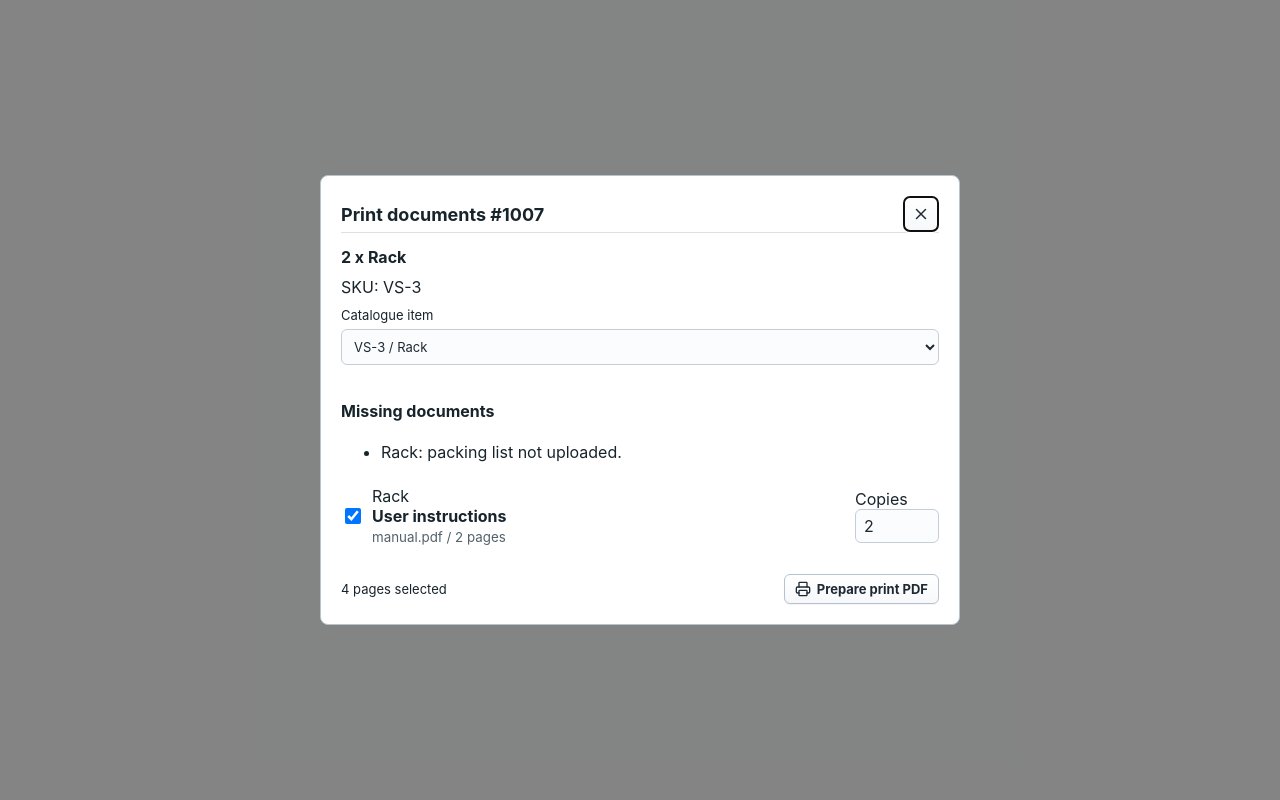
Test: shows download failures without offering an incomplete packet
Expected: the number field named "Copies of manual.pdf for Rack" is shown, [855,509,939,543]
Click the button "Prepare print PDF": (861, 589) [784,574,939,604]
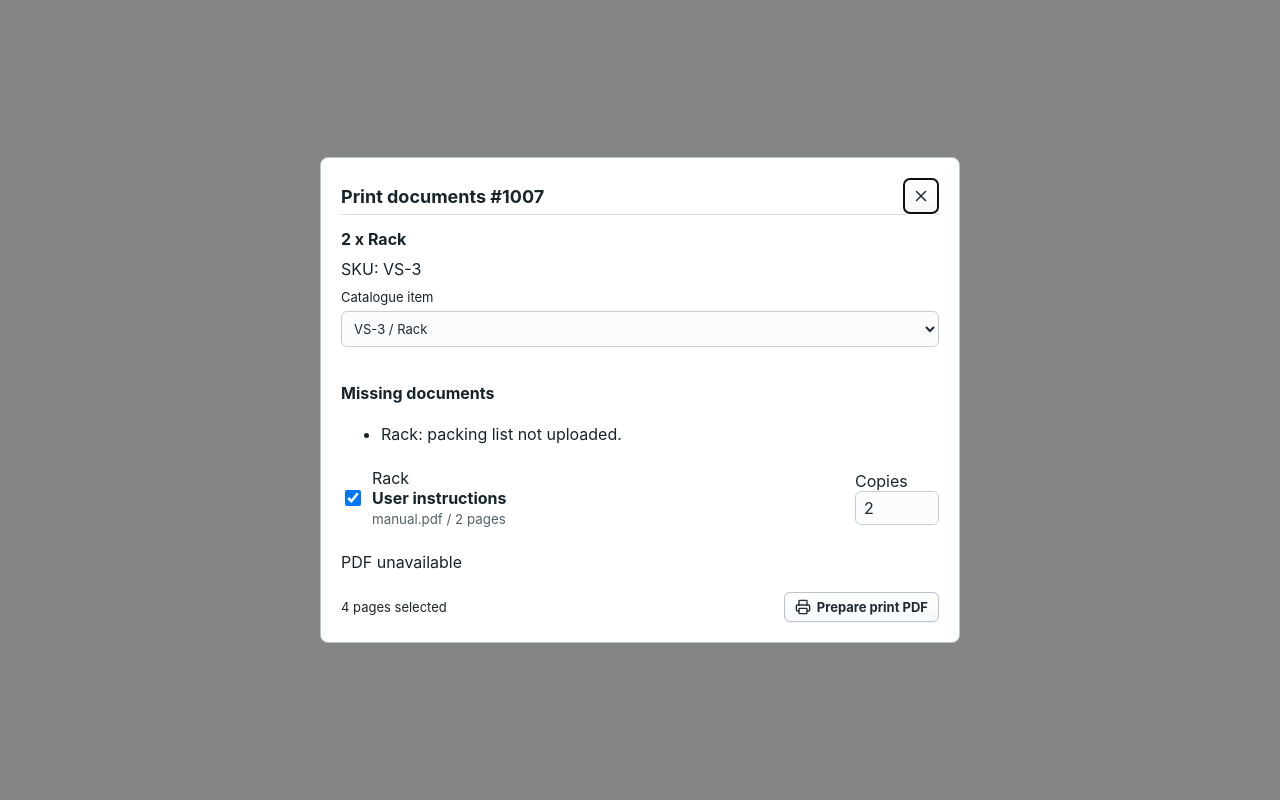
Expected: the message "PDF unavailable" is shown, [341,552,462,572]
